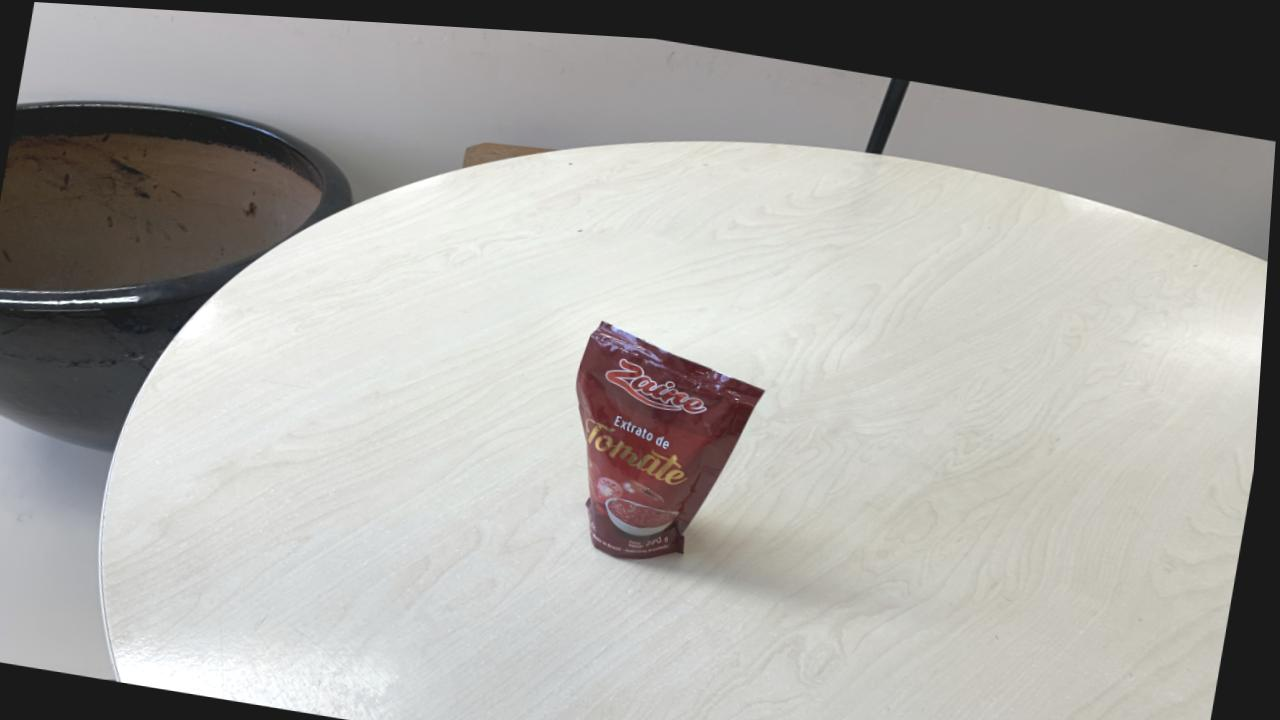Tomato_Sauce-Pantry_Items: (579, 315, 768, 552)
